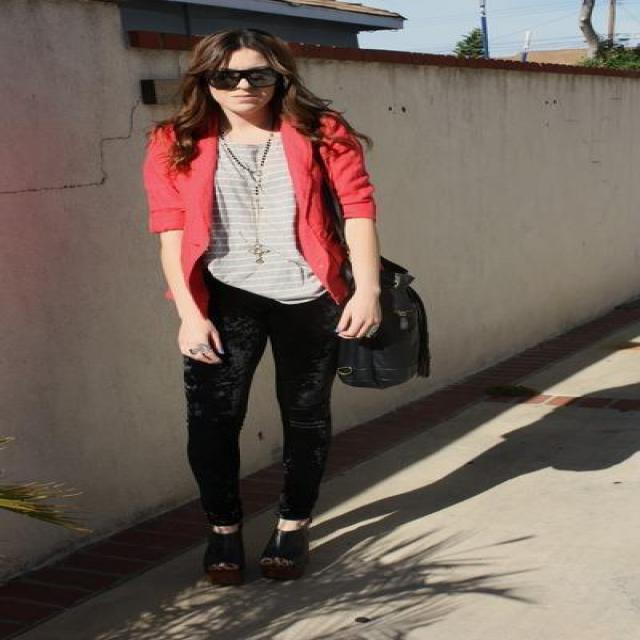bag: (341, 256, 429, 388)
jacket: (143, 119, 374, 312)
pants: (184, 277, 350, 529)
shirt: (192, 142, 328, 303)
shoe: (194, 528, 323, 587)
sunglass: (242, 64, 286, 96)
